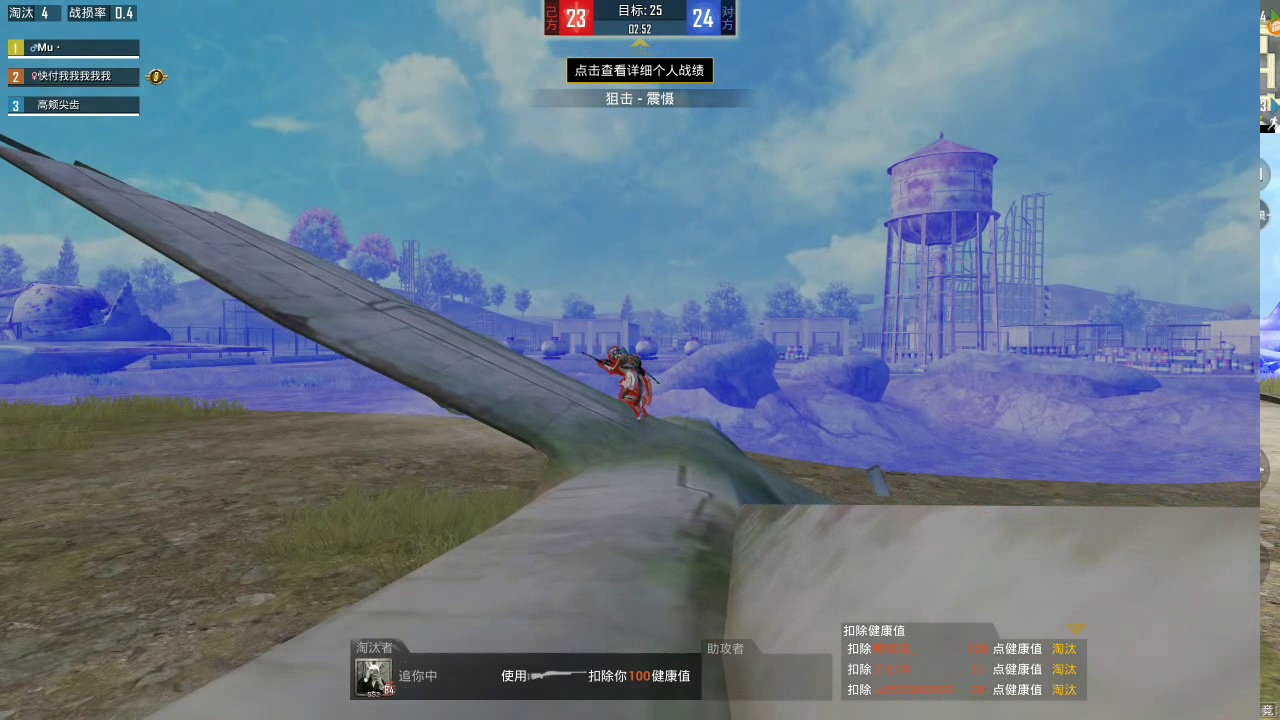enemy: (605, 342, 649, 418)
